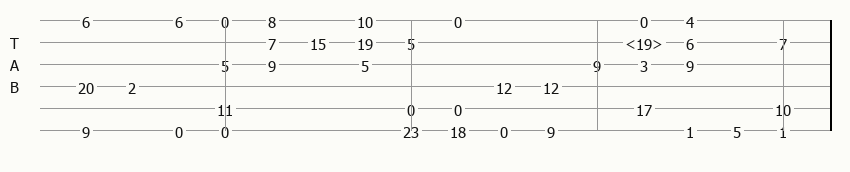0: (175, 123, 187, 138), (221, 123, 233, 138), (221, 13, 233, 28), (407, 101, 419, 116), (454, 13, 466, 28), (454, 101, 466, 116), (500, 123, 512, 138), (640, 13, 652, 28)
1: (686, 123, 698, 138), (779, 123, 791, 138)
10: (357, 13, 377, 28), (775, 101, 795, 116)
11: (217, 101, 237, 116)
12: (496, 79, 516, 94), (543, 79, 563, 94)
15: (310, 35, 330, 50)
17: (636, 101, 656, 116)
18: (450, 123, 470, 138)
19: (357, 35, 377, 50)
2: (128, 79, 140, 94)
20: (78, 79, 98, 94)
23: (403, 123, 423, 138)
3: (640, 57, 652, 72)
4: (686, 13, 698, 28)
5: (221, 57, 233, 72), (361, 57, 373, 72), (407, 35, 419, 50), (733, 123, 745, 138)
6: (82, 13, 94, 28), (175, 13, 187, 28), (686, 35, 698, 50)
7: (268, 35, 280, 50), (779, 35, 791, 50)
8: (268, 13, 280, 28)
9: (82, 123, 94, 138), (268, 57, 280, 72), (547, 123, 559, 138), (593, 57, 605, 72), (686, 57, 698, 72)
harmonic: (625, 35, 667, 50)
